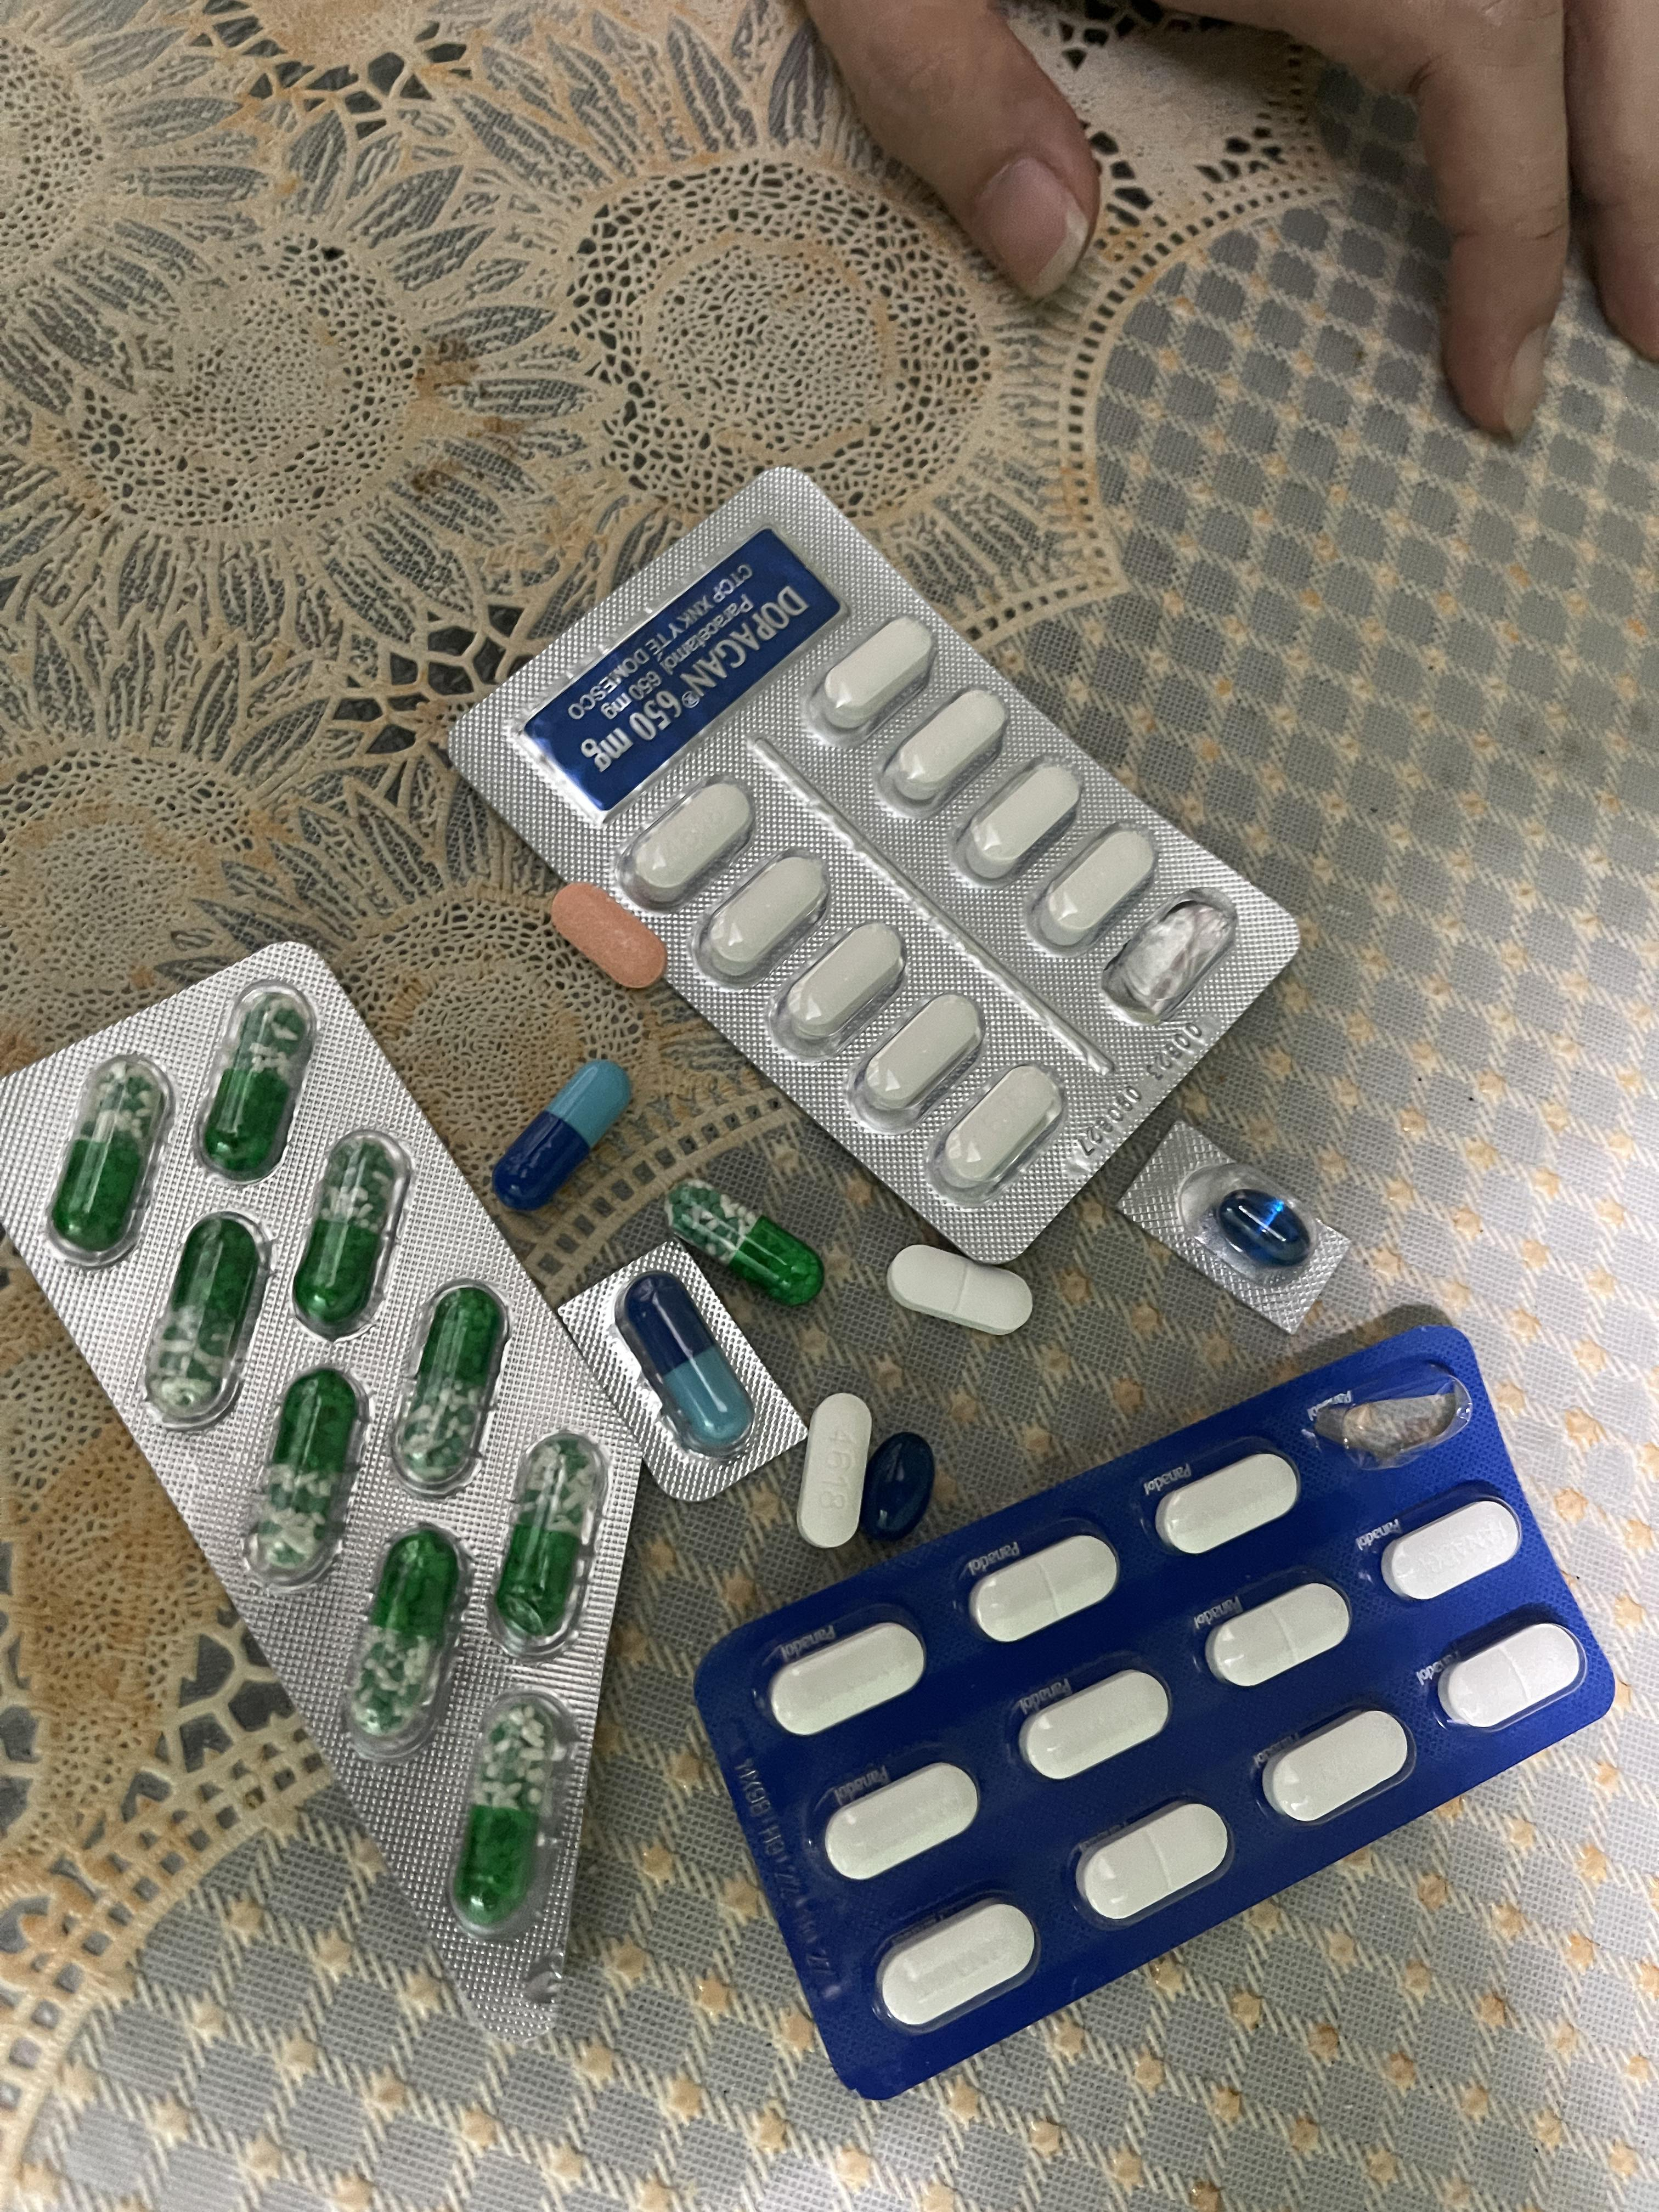Lincomyxin_500mg: (861, 1432, 936, 1543), (1215, 1186, 1312, 1266)
Loratadine_10mg: (551, 883, 669, 989)
Paracetamol_350mg: (877, 1895, 1039, 2033), (1075, 1801, 1236, 1928), (823, 1763, 978, 1885), (772, 1618, 925, 1740), (1256, 1707, 1412, 1827), (1019, 1669, 1171, 1784), (969, 1533, 1119, 1646), (1438, 1618, 1586, 1731), (1206, 1580, 1351, 1688), (1155, 1451, 1304, 1555), (1378, 1496, 1523, 1602), (887, 1245, 1033, 1336)
Paracetamol_500mg: (692, 848, 828, 988), (622, 775, 758, 909), (925, 1062, 1063, 1195), (852, 989, 985, 1123), (774, 914, 903, 1049), (1025, 819, 1152, 948), (953, 759, 1084, 885), (878, 688, 1007, 812), (809, 615, 936, 738), (795, 1397, 871, 1547)
Paracetamol_650mg: (448, 1688, 572, 1937), (343, 1529, 467, 1754), (145, 1214, 270, 1425), (247, 1366, 368, 1585), (49, 1052, 173, 1259), (490, 1435, 605, 1651), (293, 1132, 411, 1336), (390, 1289, 505, 1489), (200, 988, 315, 1174), (669, 1179, 824, 1306)
pill: (617, 1273, 756, 1458), (498, 1059, 636, 1205)
